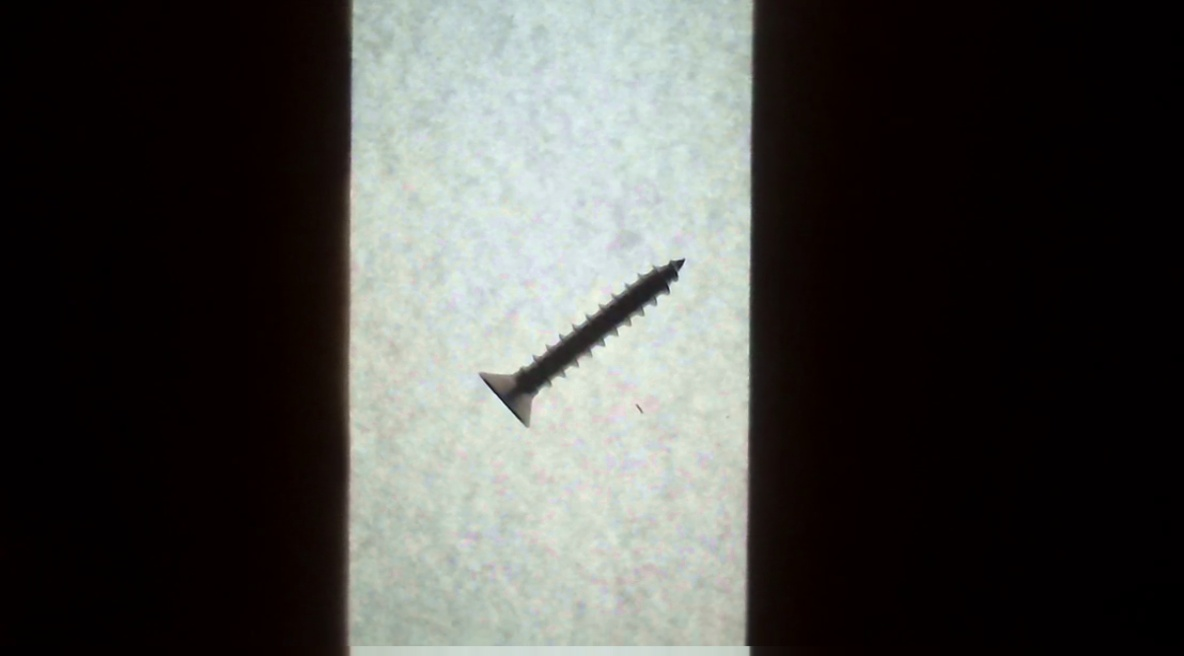S001: (455, 240, 711, 444)
